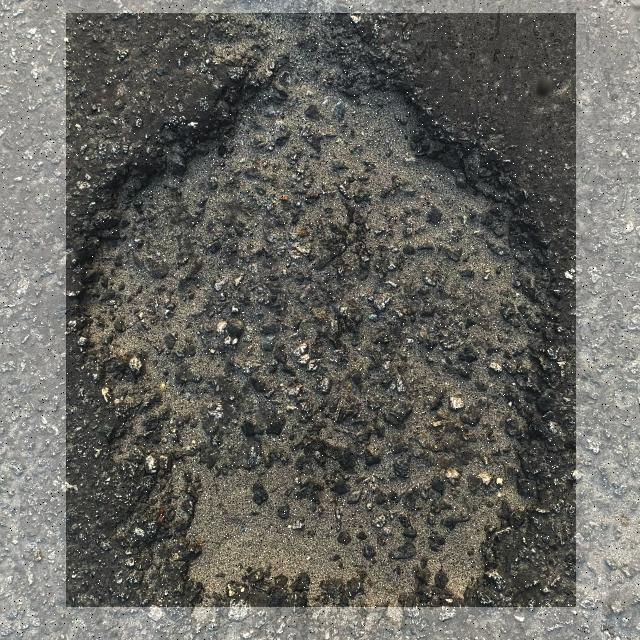damaged: (66, 14, 576, 608)
